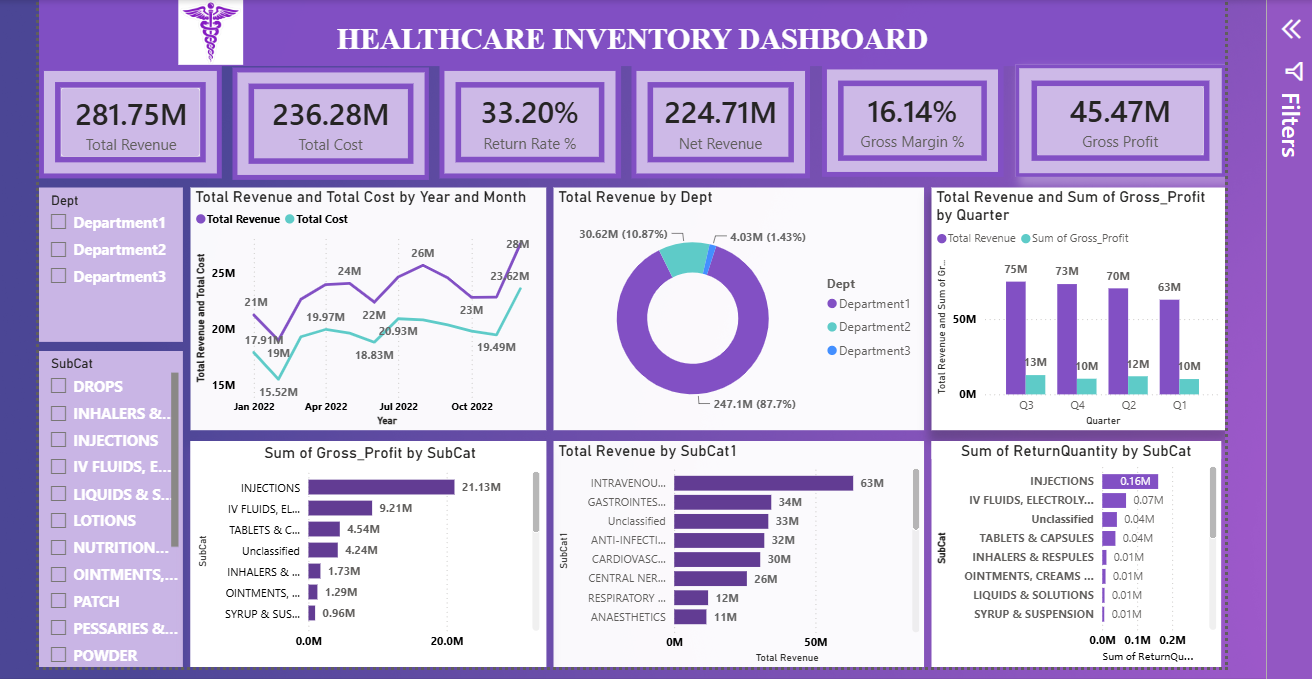

What the dashboard file says about the page in this screenshot:
{"tool":"powerbi","page":{"name":"Executive Summary","canvas":[1280,720],"ordinal":0},"visuals":[{"type":"textbox","box":[0,0,1280.8,71.2],"z":0},{"type":"cardVisual","fields":{"Data":["_Measures.Total Revenue"]},"box":[0,71.2,197.5,121.4],"z":1000},{"type":"cardVisual","fields":{"Data":["_Measures.Total Cost"]},"box":[208.9,72.9,212.1,121.4],"z":2000},{"type":"cardVisual","fields":{"Data":["_Measures.Gross Margin %"]},"box":[845.2,69.6,195.9,121.4],"z":3000},{"type":"cardVisual","fields":{"Data":["_Measures.Return Rate %"]},"box":[432.3,71.2,195.9,121.4],"z":4000},{"type":"cardVisual","fields":{"Data":["_Measures.Net Revenue"]},"box":[639.6,71.2,192.7,121.4],"z":5000},{"type":"slicer","fields":{"Values":["📊 Cleaned_Data.Dept"]},"box":[0,202.2,155.6,166.7],"z":6000},{"type":"slicer","fields":{"Values":["📊 Cleaned_Data.SubCat"]},"box":[0,378.9,155.4,341.7],"z":7000},{"type":"donutChart","fields":{"Category":["📊 Cleaned_Data.Dept"],"Y":["_Measures.Total Revenue"]},"box":[555.4,202.4,399.9,262.3],"z":8000},{"type":"barChart","fields":{"Category":["📊 Cleaned_Data.SubCat1"],"Y":["_Measures.Total Revenue"]},"box":[555.4,476.1,399.9,244.5],"z":9000},{"type":"lineChart","fields":{"Category":["📊 Cleaned_Data.Dateofbill.Variation.Date Hierarchy.Year","📊 Cleaned_Data.Dateofbill.Variation.Date Hierarchy.Month"],"Y":["_Measures.Total Revenue","_Measures.Total Cost"]},"box":[163.5,202.4,383.8,262.3],"z":10000},{"type":"clusteredColumnChart","fields":{"Y":["_Measures.Total Revenue","Sum(📊 Cleaned_Data.Gross_Profit)"],"Category":["📊 Cleaned_Data.Quarter"]},"box":[963.4,202.4,317.4,262.3],"z":11000},{"type":"barChart","fields":{"Category":["📊 Cleaned_Data.SubCat"],"Y":["Sum(📊 Cleaned_Data.Gross_Profit)"]},"box":[163.5,476.1,383.8,244.5],"z":12000},{"type":"clusteredBarChart","fields":{"Category":["📊 Cleaned_Data.SubCat"],"Y":["Sum(📊 Cleaned_Data.ReturnQuantity)"]},"box":[963.4,476.1,312.5,244.5],"z":13000},{"type":"image","box":[78.3,0,215,70],"z":14000},{"type":"cardVisual","fields":{"Data":["_Measures.Gross Profit"]},"box":[1054.1,69.6,226.7,121.4],"z":15000}]}

Visuals, with their boxes in screenshot pixels (x1, y1, x2, y2):
textbox: (left=34, top=0, right=1227, bottom=63)
cardVisual - _Measures.Total Revenue: (left=34, top=63, right=218, bottom=176)
cardVisual - _Measures.Total Cost: (left=229, top=64, right=426, bottom=178)
cardVisual - _Measures.Gross Margin %: (left=821, top=61, right=1004, bottom=174)
cardVisual - _Measures.Return Rate %: (left=437, top=63, right=619, bottom=176)
cardVisual - _Measures.Net Revenue: (left=630, top=63, right=809, bottom=176)
slicer - 📊 Cleaned_Data.Dept: (left=34, top=185, right=179, bottom=340)
slicer - 📊 Cleaned_Data.SubCat: (left=34, top=349, right=179, bottom=668)
donutChart - 📊 Cleaned_Data.Dept x _Measures.Total Revenue: (left=551, top=185, right=924, bottom=429)
barChart - 📊 Cleaned_Data.SubCat1 x _Measures.Total Revenue: (left=551, top=440, right=924, bottom=668)
lineChart - 📊 Cleaned_Data.Dateofbill.Variation.Date Hierarchy.Year x 📊 Cleaned_Data.Dateofbill.Variation.Date Hierarchy.Month: (left=186, top=185, right=544, bottom=429)
clusteredColumnChart - _Measures.Total Revenue x Sum(📊 Cleaned_Data.Gross_Profit): (left=931, top=185, right=1227, bottom=429)
barChart - 📊 Cleaned_Data.SubCat x Sum(📊 Cleaned_Data.Gross_Profit): (left=186, top=440, right=544, bottom=668)
clusteredBarChart - 📊 Cleaned_Data.SubCat x Sum(📊 Cleaned_Data.ReturnQuantity): (left=931, top=440, right=1222, bottom=668)
image: (left=107, top=0, right=307, bottom=62)
cardVisual - _Measures.Gross Profit: (left=1016, top=61, right=1227, bottom=174)
